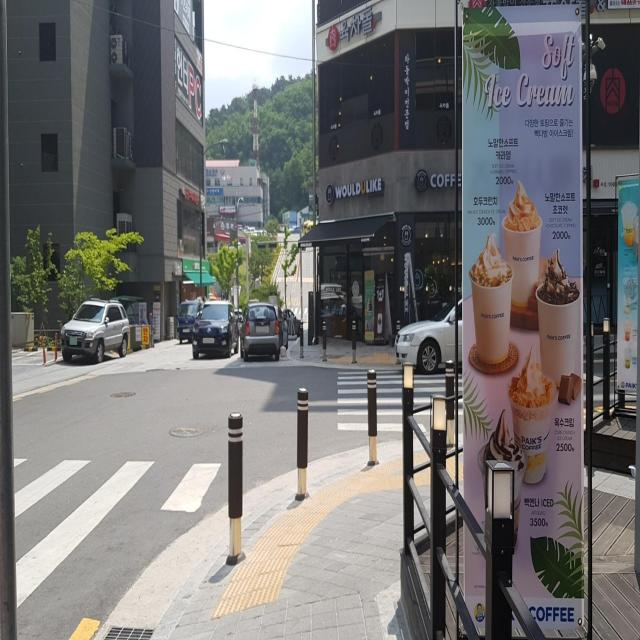횡단보도: (13, 449, 221, 616), (336, 370, 463, 432)
